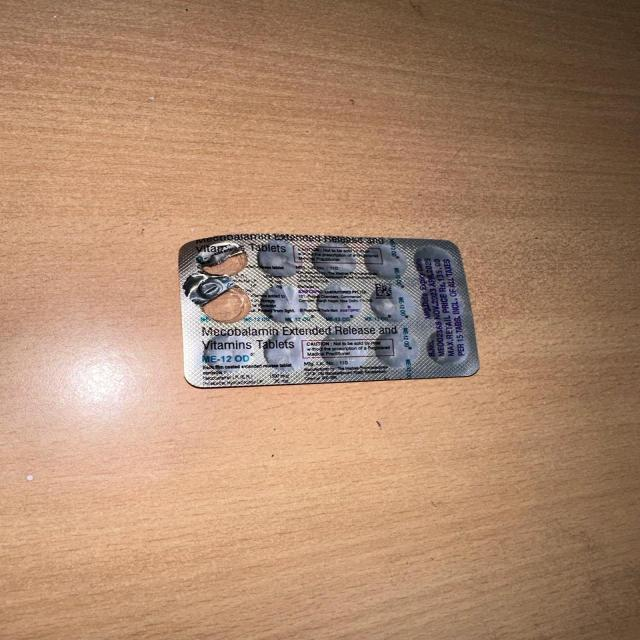medicine: (158, 225, 500, 397)
